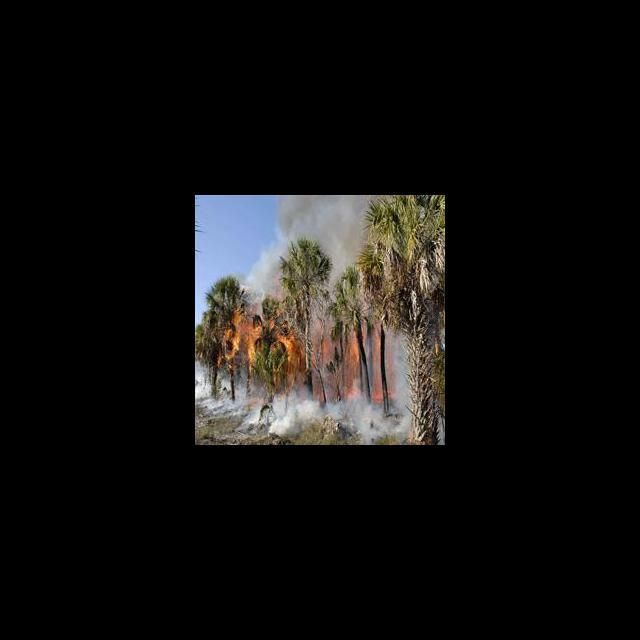Fire: (218, 298, 388, 399)
Smoke: (250, 195, 370, 288), (242, 401, 416, 440)
